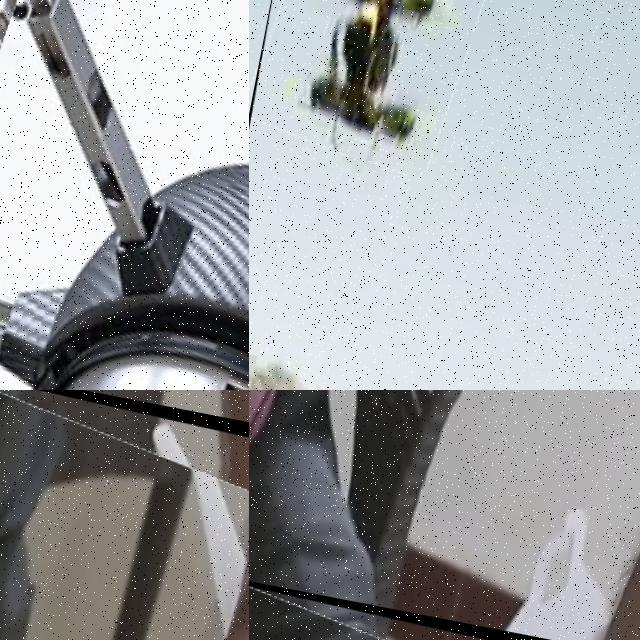0: (249, 0, 485, 176)
drone: (0, 0, 249, 390), (0, 390, 249, 640), (249, 546, 640, 640)
